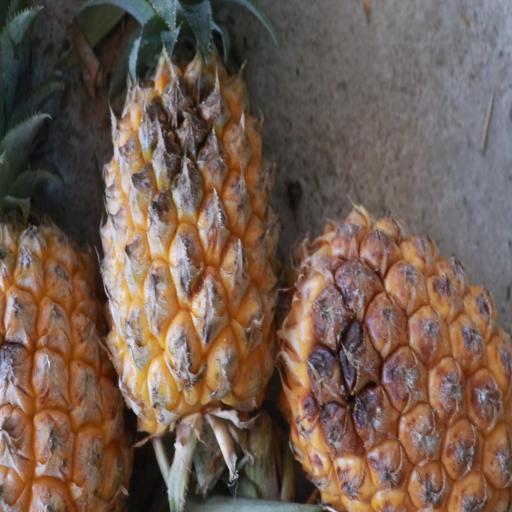Pineapple - v8 v1: (97, 0, 282, 450), (276, 197, 512, 512), (0, 0, 132, 512)
